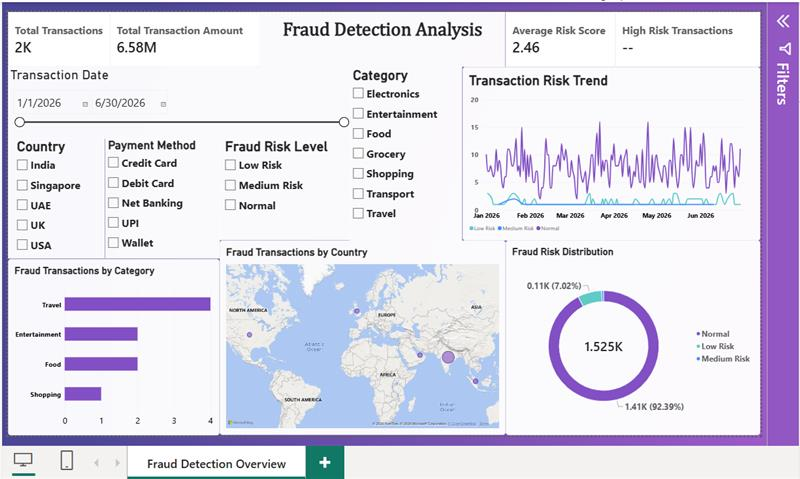

This screenshot's page, from the dashboard's own definition file:
{"tool":"powerbi","page":{"name":"Fraud Detection Overview","canvas":[1920,1080],"ordinal":0},"visuals":[{"type":"cardVisual","fields":{"Data":["Categories.Total Transactions"]},"box":[0,0,280.5,140.2],"z":0},{"type":"cardVisual","fields":{"Data":["Categories.Total Transaction Amount"]},"box":[260,0,383.3,140],"z":1000},{"type":"cardVisual","fields":{"Data":["Categories.High Risk Transactions"]},"box":[1550,0,370,140],"z":2000},{"type":"cardVisual","fields":{"Data":["Categories.Average Risk Score"]},"box":[1270,0,280.5,140.2],"z":3000},{"type":"donutChart","title":"Fraud Risk Distribution","fields":{"Category":["Transactions_Raw.Fraud Risk Level"],"Y":["CountNonNull(Transactions_Raw.Transaction ID)"]},"box":[1270,583.3,650,496.7],"z":4000},{"type":"clusteredBarChart","title":"Fraud Transactions by Category","fields":{"Category":["Categories.Category"],"Y":["CountNonNull(Transactions_Raw.Transaction ID)"]},"box":[0,630,540,450],"z":5000},{"type":"map","title":"Fraud Transactions by Country","fields":{"Category":["Transactions_Raw.Country"],"Size":["CountNonNull(Transactions_Raw.Transaction ID)"]},"box":[540,583.3,730,496.7],"z":6000},{"type":"lineChart","title":"Transaction Risk Trend","fields":{"Y":["CountNonNull(Transactions_Raw.Transaction ID)"],"Series":["Transactions_Raw.Fraud Risk Level"],"Category":["Date_Table.Date"]},"box":[1160,140,760,443.3],"z":7000},{"type":"slicer","title":"Transaction Date","fields":{"Values":["Date_Table.Date"]},"box":[0,140,873.3,183.3],"z":8000},{"type":"slicer","fields":{"Values":["Transactions_Raw.Country"]},"box":[0,323.3,246.7,306.7],"z":9000},{"type":"slicer","fields":{"Values":["Transactions_Raw.Category"]},"box":[873.3,140,286.7,443.3],"z":10000},{"type":"slicer","fields":{"Values":["Transactions_Raw.Payment Method"]},"box":[246.7,323.3,293.3,306.7],"z":11000},{"type":"slicer","fields":{"Values":["Transactions_Raw.Fraud Risk Level"]},"box":[540,323.3,333.3,260],"z":12000},{"type":"textbox","box":[643.3,0,626.7,140],"z":13000}]}

Visuals, with their boxes on the page's 1920x1080 design canvas (x1, y1, x2, y2). These are canvas units, not pixel positions in the 800x479 screenshot, which may show the page scaled, cropped or inside an application window:
cardVisual - Categories.Total Transactions: 0:0:280:140
cardVisual - Categories.Total Transaction Amount: 260:0:643:140
cardVisual - Categories.High Risk Transactions: 1550:0:1920:140
cardVisual - Categories.Average Risk Score: 1270:0:1550:140
"Fraud Risk Distribution" donutChart: 1270:583:1920:1080
"Fraud Transactions by Category" clusteredBarChart: 0:630:540:1080
"Fraud Transactions by Country" map: 540:583:1270:1080
"Transaction Risk Trend" lineChart: 1160:140:1920:583
"Transaction Date" slicer: 0:140:873:323
slicer - Transactions_Raw.Country: 0:323:247:630
slicer - Transactions_Raw.Category: 873:140:1160:583
slicer - Transactions_Raw.Payment Method: 247:323:540:630
slicer - Transactions_Raw.Fraud Risk Level: 540:323:873:583
textbox: 643:0:1270:140
